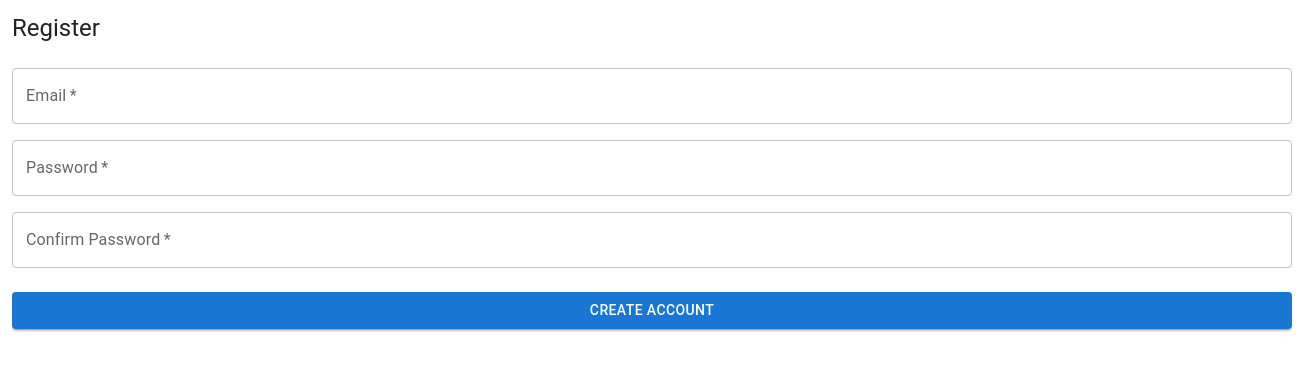
Test case: RegisterForm › blocks submission and shows an error when passwords do not match
In the field labelled "Email *": x=652, y=96 [12, 68, 1292, 124], type "alice@example.com"
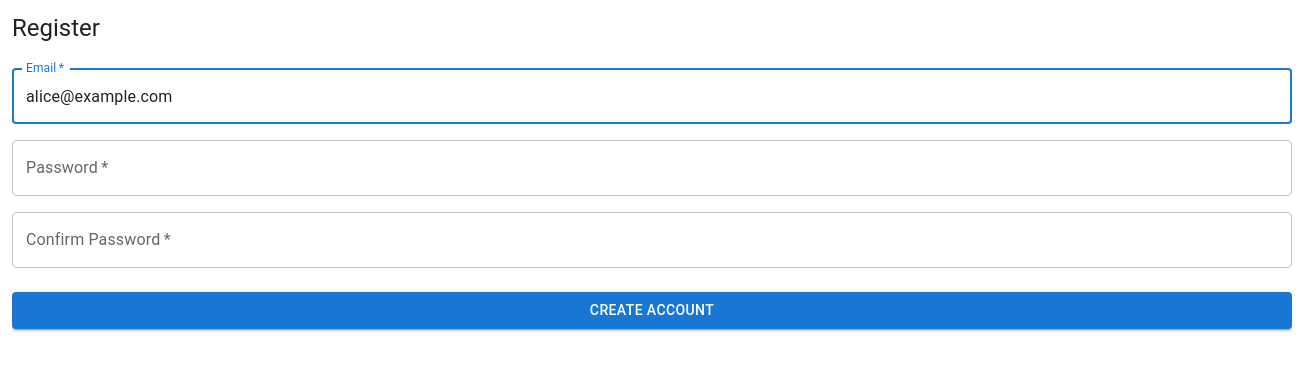
In the password field labelled "Password *": x=652, y=168 [12, 140, 1292, 196], type "secret123"
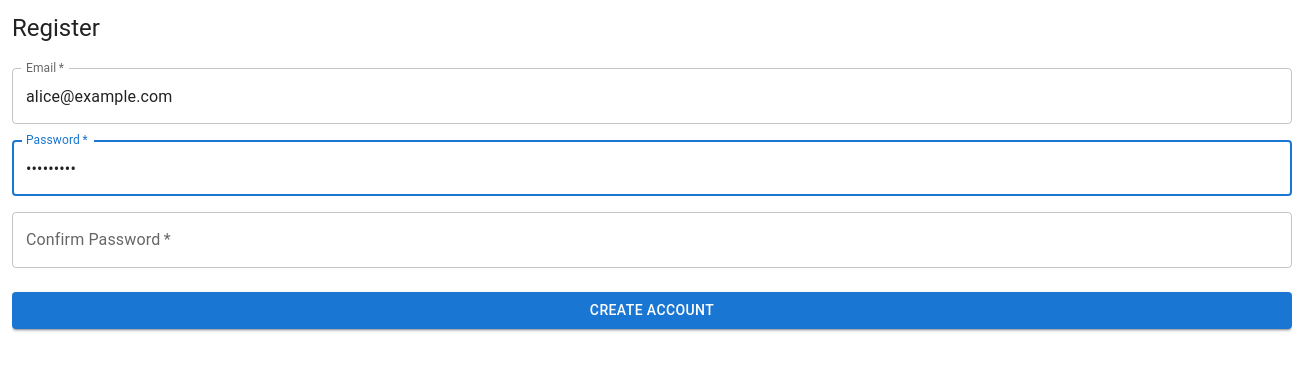
In the password field labelled "Confirm Password *": x=652, y=240 [12, 212, 1292, 268], type "different"
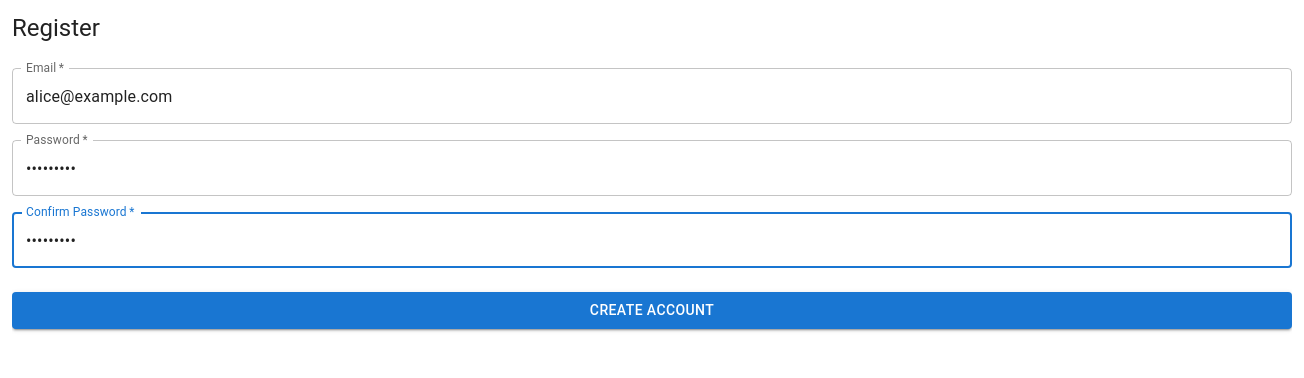
Click the button "Create Account": x=652, y=310 [12, 292, 1292, 328]
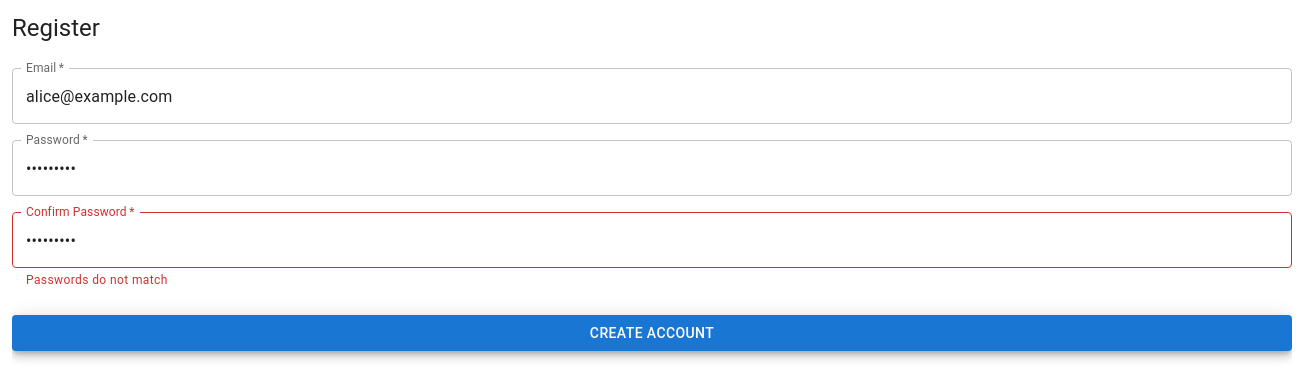
Check: the text "Passwords do not match" is shown, box [26, 273, 168, 287]
